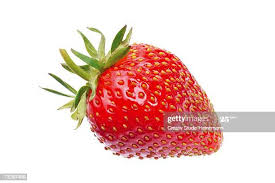Fresa: (78, 40, 226, 160)
